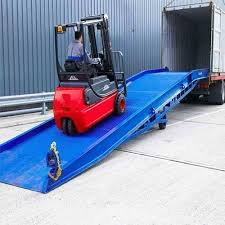Pallet Jack: (48, 13, 130, 136)
Yard Ramp: (1, 69, 209, 195)
